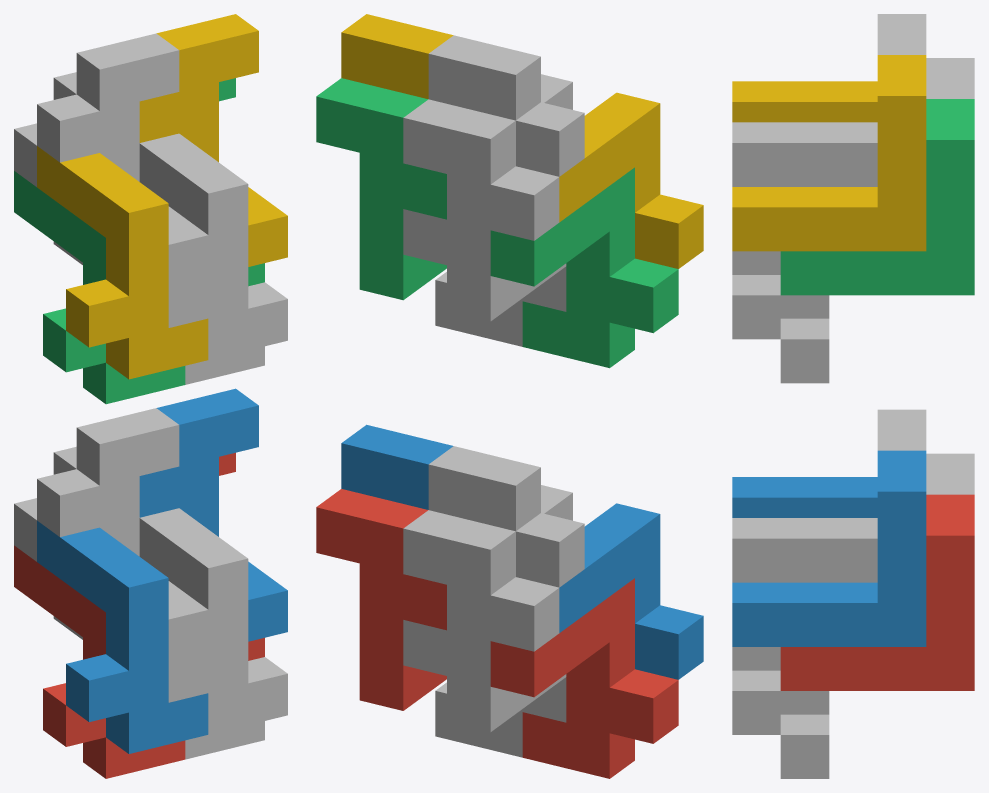
Rendered from tiling.obj.
3 renders of one model, left to right at view 1: azimuth 30°, elevation 25°; view 2: azimuth 150°, elevation 25°; view 3: azimuth 270°, elevation 25°, orthographic. The views are drawn at different scales.
Parts seen in each view (by area): view 1: copy_1_domain_2, copy_1_domain_4, copy_1_domain_6, copy_1_domain_8, copy_2_domain_2, copy_2_domain_4, copy_2_domain_6, copy_2_domain_8, copy_1_domain_1, copy_1_domain_3, copy_2_domain_3, copy_2_domain_1 (+4 smaller); view 2: copy_1_domain_3, copy_1_domain_1, copy_2_domain_3, copy_2_domain_1, copy_2_domain_7, copy_2_domain_5, copy_1_domain_2, copy_1_domain_4, copy_2_domain_2, copy_2_domain_4, copy_2_domain_6, copy_2_domain_8 (+4 smaller); view 3: copy_2_domain_8, copy_2_domain_6, copy_2_domain_7, copy_2_domain_5, copy_1_domain_8, copy_1_domain_6, copy_1_domain_4, copy_1_domain_2, copy_1_domain_7, copy_1_domain_5, copy_2_domain_2, copy_2_domain_1 (+2 smaller).
Boxes of the visible parts, x1,y1,x2,y2 form: copy_1_domain_2: [37, 520, 208, 753]; copy_1_domain_4: [37, 146, 208, 379]; copy_1_domain_6: [139, 508, 287, 734]; copy_1_domain_8: [139, 133, 287, 359]; copy_2_domain_2: [37, 408, 208, 660]; copy_2_domain_4: [37, 33, 208, 286]; copy_2_domain_6: [139, 388, 287, 641]; copy_2_domain_8: [139, 14, 287, 266]; copy_1_domain_1: [14, 545, 185, 778]; copy_1_domain_3: [14, 171, 185, 404]; copy_2_domain_3: [14, 72, 82, 264]; copy_2_domain_1: [14, 446, 82, 639]; copy_1_domain_3: [490, 167, 678, 368]; copy_1_domain_1: [490, 578, 678, 778]; copy_2_domain_3: [403, 99, 566, 321]; copy_2_domain_1: [403, 510, 566, 732]; copy_2_domain_7: [316, 78, 446, 300]; copy_2_domain_5: [316, 489, 446, 710]; copy_1_domain_2: [559, 503, 703, 679]; copy_1_domain_4: [559, 92, 703, 268]; copy_2_domain_2: [428, 446, 584, 587]; copy_2_domain_4: [428, 35, 584, 176]; copy_2_domain_6: [341, 424, 453, 509]; copy_2_domain_8: [341, 14, 453, 99]; copy_2_domain_8: [732, 55, 926, 251]; copy_2_domain_6: [732, 450, 926, 646]; copy_2_domain_7: [780, 99, 974, 295]; copy_2_domain_5: [780, 494, 974, 690]; copy_1_domain_8: [732, 122, 877, 339]; copy_1_domain_6: [732, 518, 877, 734]; copy_1_domain_4: [732, 81, 877, 122]; copy_1_domain_2: [732, 477, 877, 517]; copy_1_domain_7: [780, 295, 829, 383]; copy_1_domain_5: [780, 691, 829, 778]; copy_2_domain_2: [877, 409, 926, 450]; copy_2_domain_1: [926, 453, 974, 494].
Size of the model in its own units: 6 by 16 by 5.
